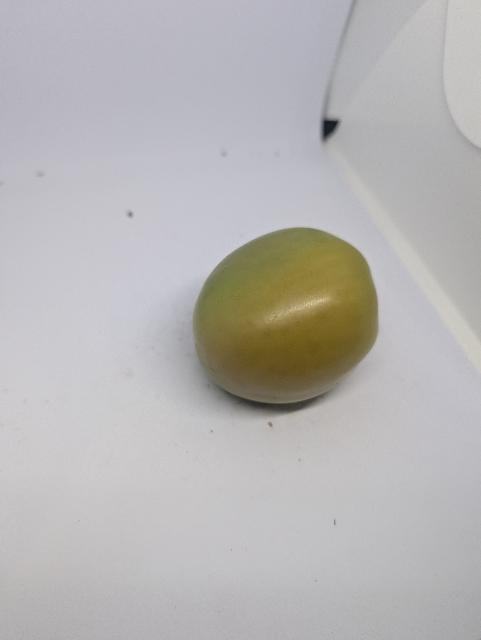breaker: (189, 223, 385, 412)
